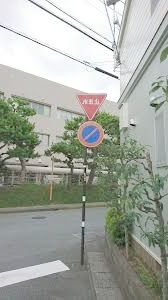Regulatory_sign_triangle: (74, 89, 109, 122)
